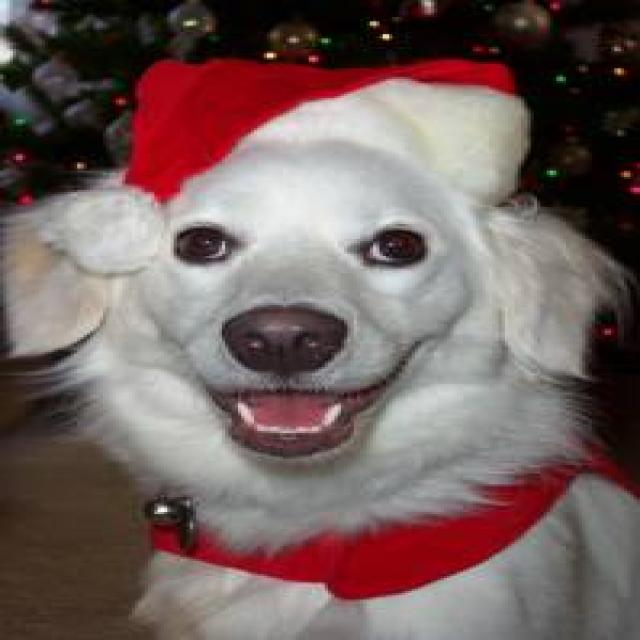Dogs: (0, 55, 637, 638)
